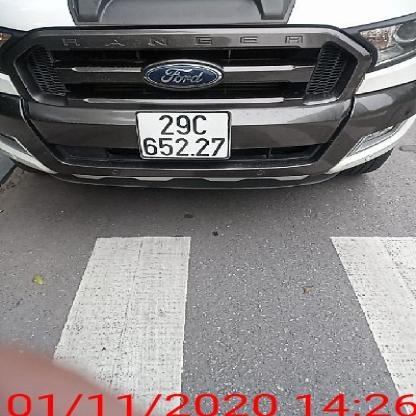biensoxe: (133, 107, 235, 166)
